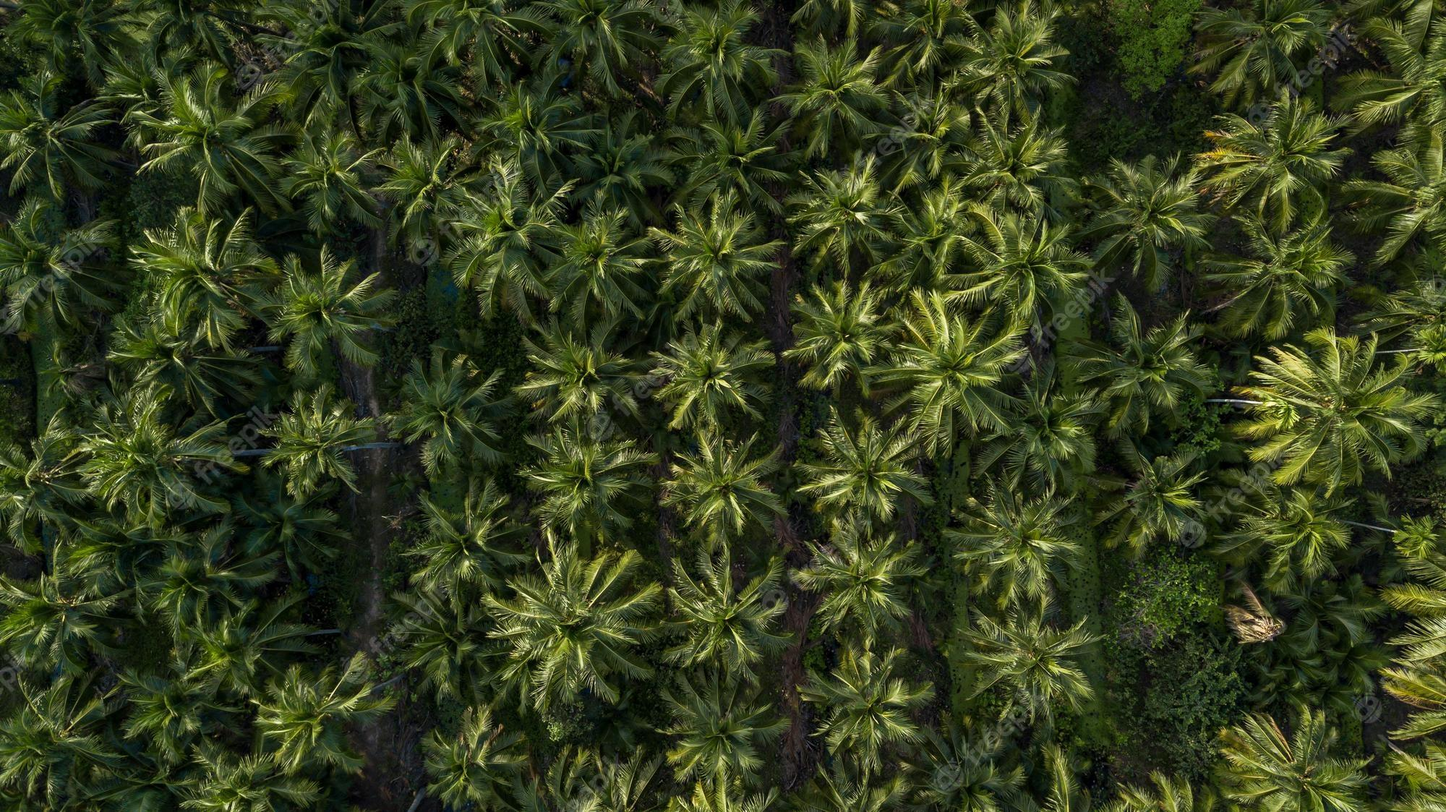coconut_tree: (495, 538, 662, 714), (68, 379, 235, 555), (624, 163, 791, 339), (1258, 318, 1425, 494), (494, 537, 661, 712), (876, 312, 1045, 462), (105, 215, 271, 359), (366, 348, 531, 491), (659, 559, 810, 709), (658, 557, 808, 708), (797, 513, 947, 664), (426, 151, 576, 302), (424, 150, 575, 300), (1084, 290, 1235, 440), (1081, 142, 1231, 293), (1201, 74, 1351, 225), (936, 193, 1087, 343), (646, 402, 796, 552), (770, 12, 920, 162), (804, 624, 954, 774), (946, 586, 1096, 736), (950, 461, 1100, 611), (127, 58, 277, 208), (240, 617, 390, 767), (274, 99, 424, 249), (0, 659, 149, 810), (944, 0, 1095, 149), (0, 661, 149, 811), (1, 661, 150, 811), (0, 54, 149, 204), (1205, 696, 1372, 811), (273, 242, 416, 372), (515, 432, 641, 542), (401, 490, 529, 597), (10, 551, 142, 654), (257, 401, 366, 507), (417, 717, 526, 808)
